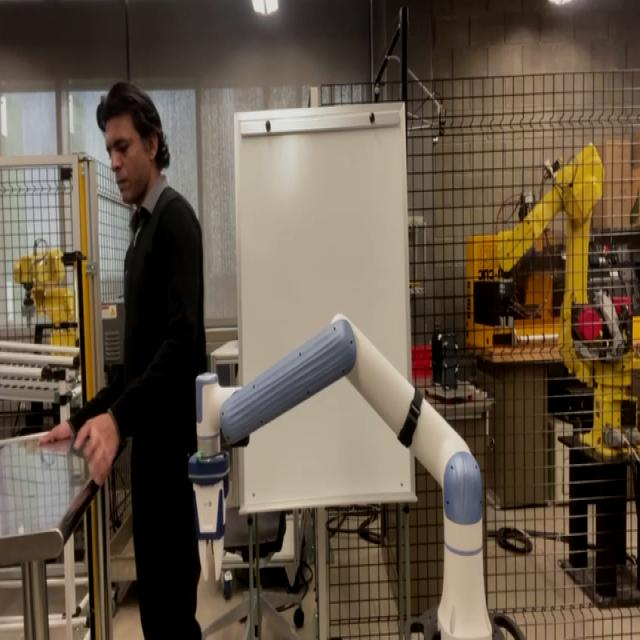robot: (188, 311, 526, 637)
